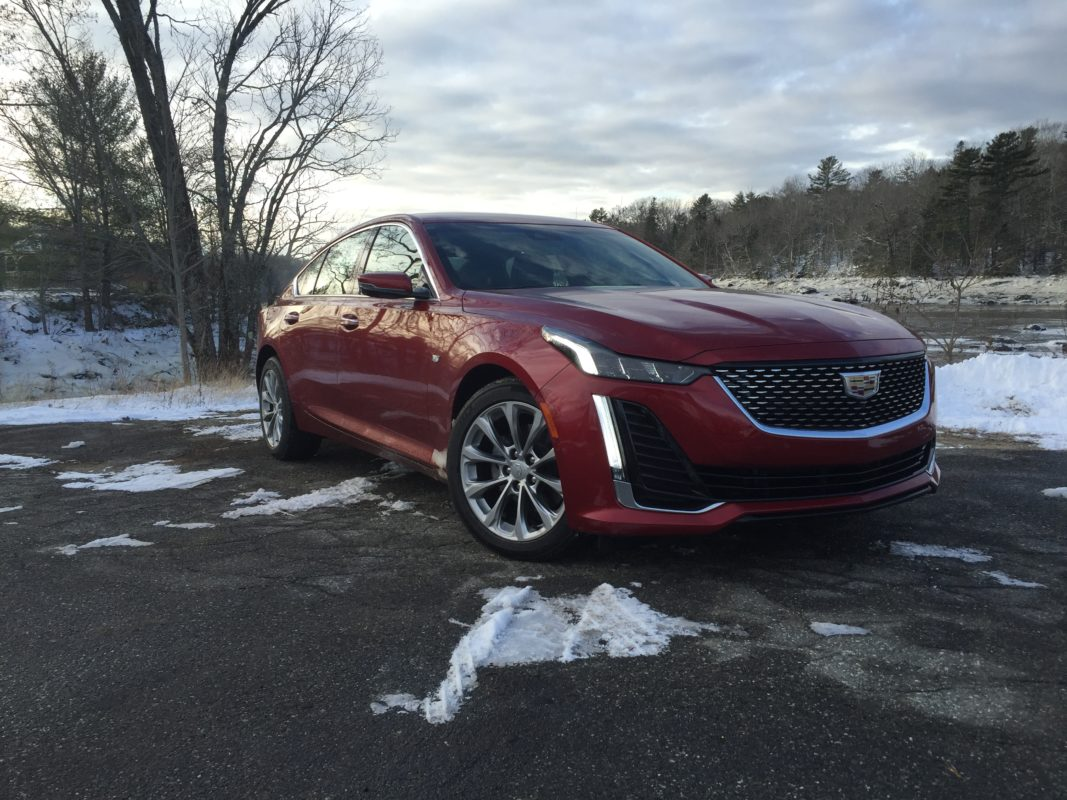car: (251, 210, 940, 560)
